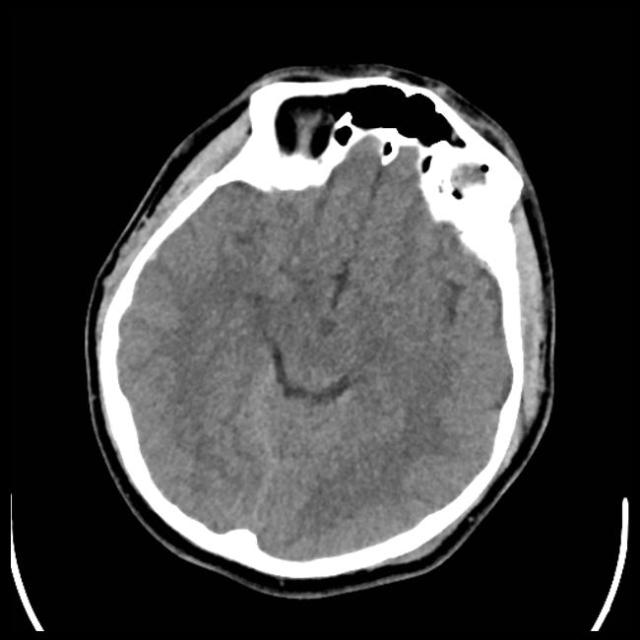lesion: (85, 65, 555, 587)
